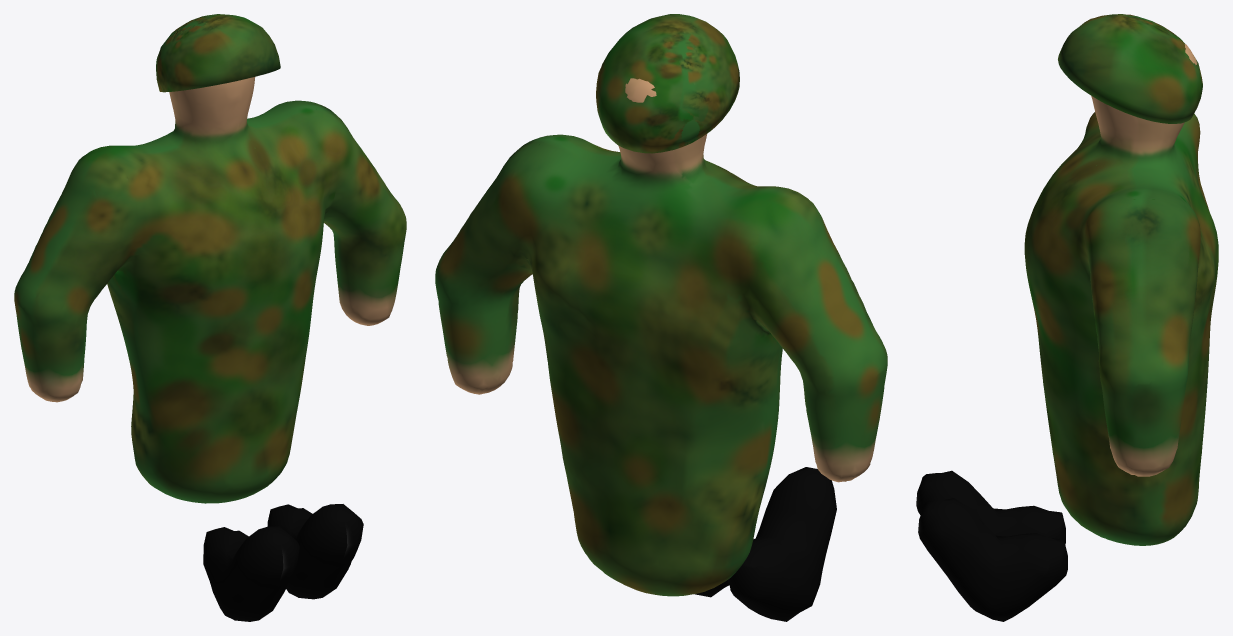
Rendered from Soldier2.fbx.
3 renders of one model, left to right at view 1: azimuth 30°, elevation 25°; view 2: azimuth 150°, elevation 25°; view 3: azimuth 270°, elevation 25°, orthographic. The views are drawn at different scales.
Parts seen in each view (by area): view 1: Body.002, Helm.003, FootL.002, FootL.003; view 2: Body.002, Helm.003, FootL.002; view 3: Body.002, Helm.003, FootL.003, FootL.002.
Part boxes in pixels (<box>): Body.002: <box>14,77,406,503</box>; Helm.003: <box>156,14,280,92</box>; FootL.002: <box>203,526,299,621</box>; FootL.003: <box>267,504,363,599</box>; Body.002: <box>435,78,887,596</box>; Helm.003: <box>596,14,739,153</box>; FootL.002: <box>728,467,836,621</box>; Body.002: <box>1024,44,1218,545</box>; Helm.003: <box>1058,14,1202,123</box>; FootL.003: <box>918,498,1067,621</box>; FootL.002: <box>916,470,1065,543</box>.
Bounding box in the file's own units: 166 × 230 × 107.
2 materials, 2 textured.
